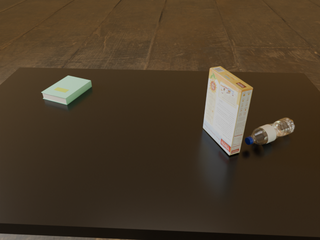book: (42, 76, 92, 105)
bottle: (245, 118, 295, 145)
box: (203, 66, 253, 155)
